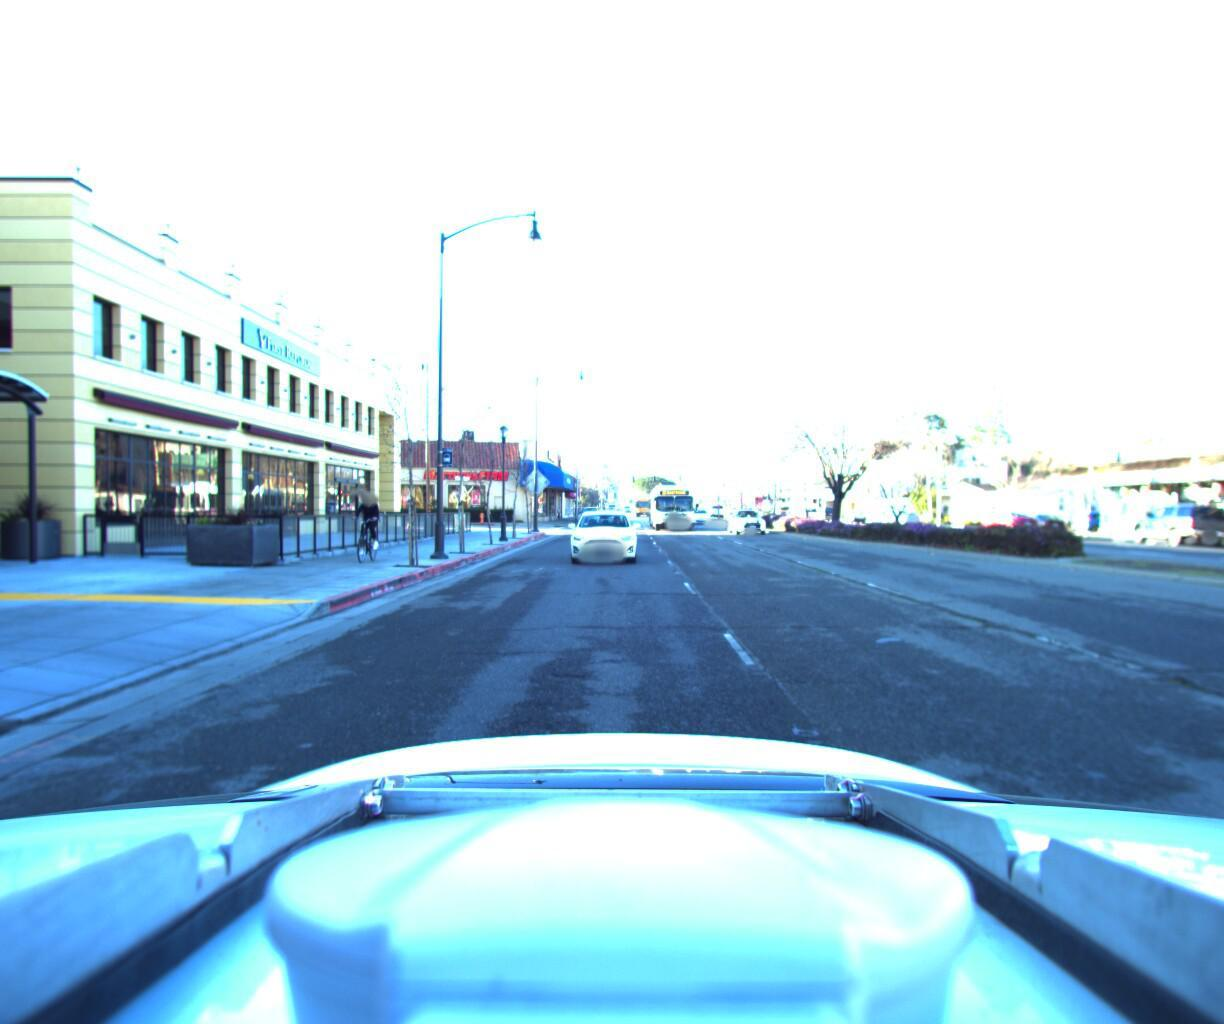bicycle: (342, 484, 388, 560)
bus: (644, 471, 703, 527)
car: (1123, 495, 1224, 542), (568, 497, 640, 561), (971, 501, 1039, 530), (727, 495, 774, 527), (1068, 503, 1133, 526), (888, 502, 923, 520), (576, 501, 602, 520), (689, 500, 716, 518)
